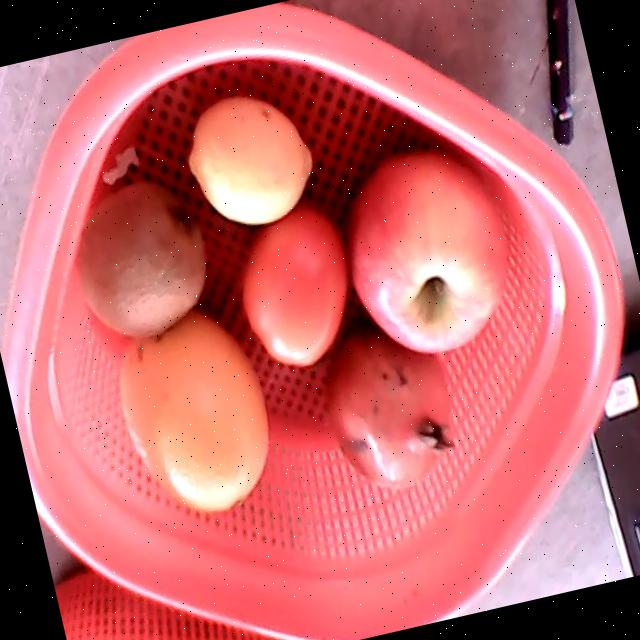apple: (348, 147, 507, 352)
kiwi: (76, 180, 204, 335)
lemon: (189, 97, 312, 225)
orange: (120, 310, 267, 511)
pomegranate: (325, 330, 457, 483)
tomato: (239, 205, 346, 367)
